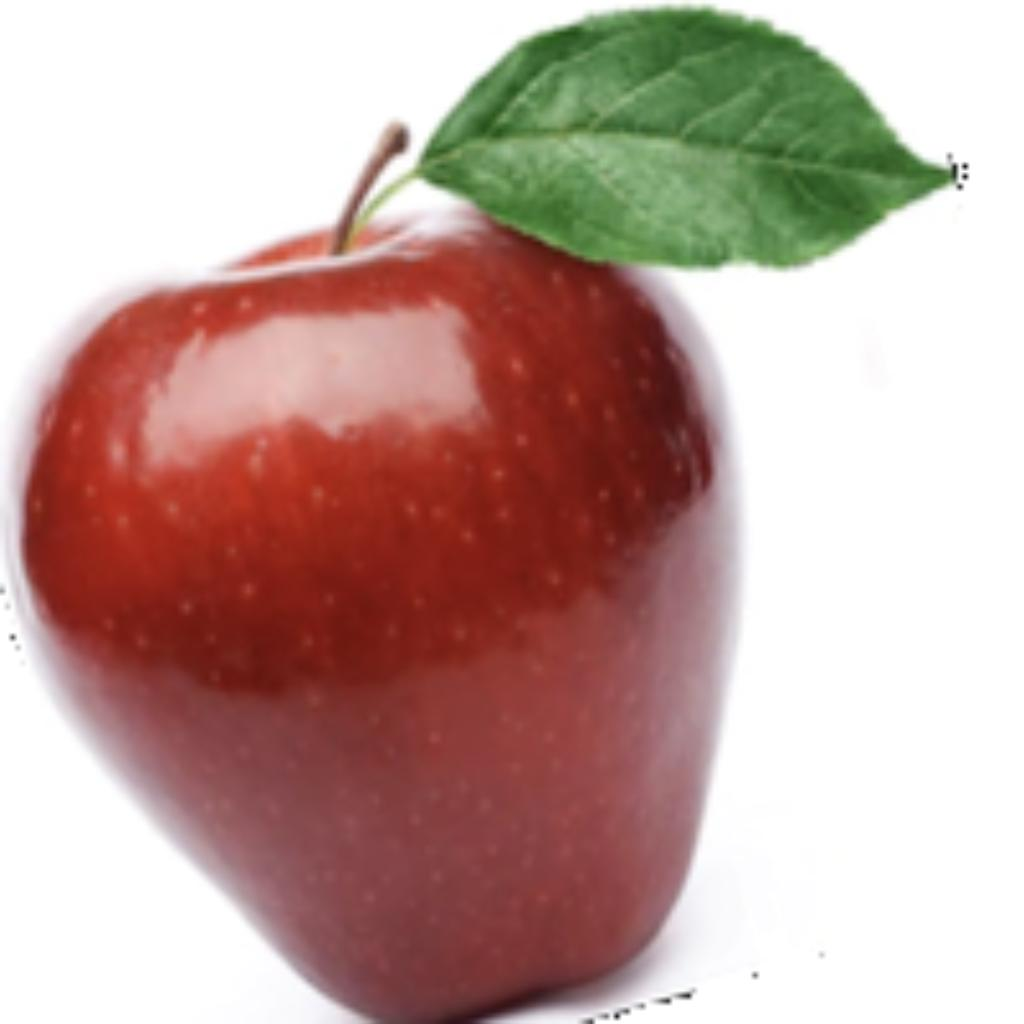apple: (0, 0, 968, 1019)
